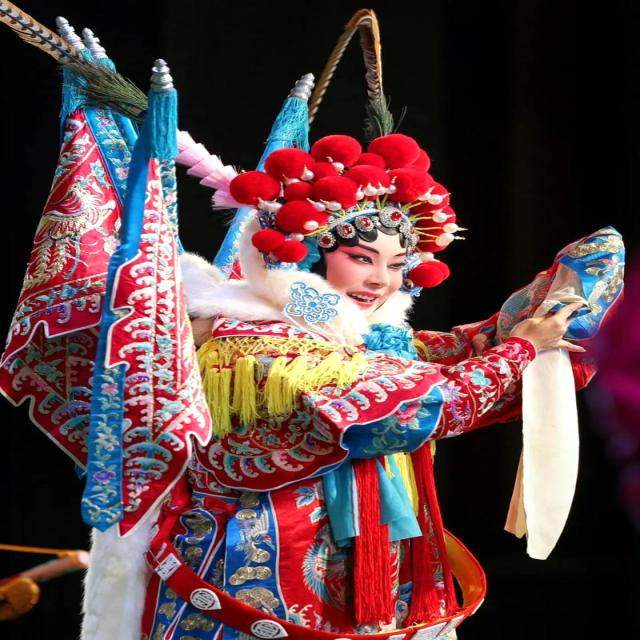Reeves-s Pheasant: (0, 0, 147, 122), (311, 9, 394, 139)
